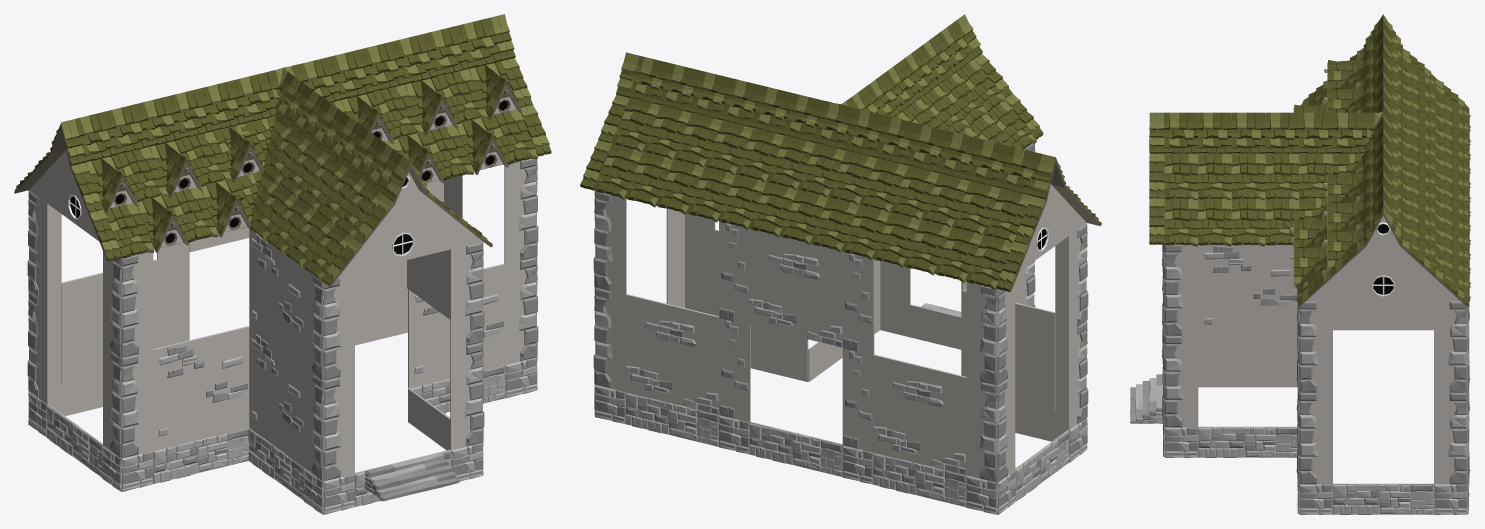
The model's file is HOUSE_18_PARTS.fbx.
3 views of the same model, side by side, from view 1: azimuth 30°, elevation 25°; view 2: azimuth 150°, elevation 25°; view 3: azimuth 270°, elevation 25° (orthographic). The views are drawn at different scales.
Visible parts, largest first — view 1: WALL_01_5, WALL_01_2, WALL_01_6, WALL_01_3, WALL_03_3, WALL_07_7, WALL_07_8, WALL_07_15, WALL_05_11, WALL_05_10, FOUNDATION_03_4, WALL_07_16 (+83 smaller); view 2: WALL_03_3, WALL_03_2, WALL_03_4, WALL_01_5, WALL_06_5, FOUNDATION_03_7, WALL_05_18, WALL_07_14, WALL_06_3, WALL_06_4, FOUNDATION_03_6, WALL_07_13 (+78 smaller); view 3: WALL_01_7, WALL_05_15, FOUNDATION_03_9, FOUNDATION_03_11, WALL_05_14, WALL_05_17, WALL_07_18, WALL_05_16, WALL_07_17, FOUNDATION_03_3, FOUNDATION_03_5, WALL_01_2 (+59 smaller).
Part boxes in pixels (left/top/right/bottom): WALL_01_5: left=153, top=326, right=249, bottom=450; WALL_01_2: left=249, top=327, right=304, bottom=467; WALL_01_6: left=408, top=263, right=504, bottom=388; WALL_01_3: left=249, top=229, right=304, bottom=366; WALL_03_3: left=61, top=259, right=157, bottom=383; WALL_07_7: left=450, top=342, right=483, bottom=449; WALL_07_8: left=450, top=241, right=483, bottom=349; WALL_07_15: left=504, top=158, right=537, bottom=264; WALL_05_11: left=121, top=350, right=153, bottom=458; WALL_05_10: left=121, top=252, right=153, bottom=357; FOUNDATION_03_4: left=153, top=427, right=249, bottom=483; WALL_07_16: left=505, top=257, right=537, bottom=364; WALL_03_3: left=873, top=354, right=966, bottom=474; WALL_03_2: left=626, top=294, right=718, bottom=414; WALL_03_4: left=749, top=229, right=842, bottom=347; WALL_01_5: left=962, top=290, right=1055, bottom=410; WALL_06_5: left=842, top=251, right=874, bottom=354; FOUNDATION_03_7: left=749, top=421, right=842, bottom=476; WALL_05_18: left=594, top=191, right=626, bottom=294; WALL_07_14: left=966, top=378, right=997, bottom=482; WALL_06_3: left=842, top=348, right=873, bottom=452; WALL_06_4: left=719, top=317, right=750, bottom=421; FOUNDATION_03_6: left=873, top=452, right=966, bottom=507; WALL_07_13: left=966, top=282, right=997, bottom=385; WALL_01_7: left=1198, top=245, right=1297, bottom=335; WALL_05_15: left=1164, top=335, right=1198, bottom=427; FOUNDATION_03_9: left=1333, top=483, right=1433, bottom=514; FOUNDATION_03_11: left=1198, top=426, right=1297, bottom=457; WALL_05_14: left=1164, top=244, right=1198, bottom=335; WALL_05_17: left=1299, top=392, right=1332, bottom=484; WALL_07_18: left=1434, top=392, right=1467, bottom=484; WALL_05_16: left=1299, top=301, right=1332, bottom=392; WALL_07_17: left=1434, top=301, right=1467, bottom=392; FOUNDATION_03_3: left=1198, top=357, right=1297, bottom=387; FOUNDATION_03_5: left=1333, top=301, right=1433, bottom=330; WALL_01_2: left=1198, top=335, right=1297, bottom=356.
Bounding box in the file's own units: 1391 × 1016 × 1013.
